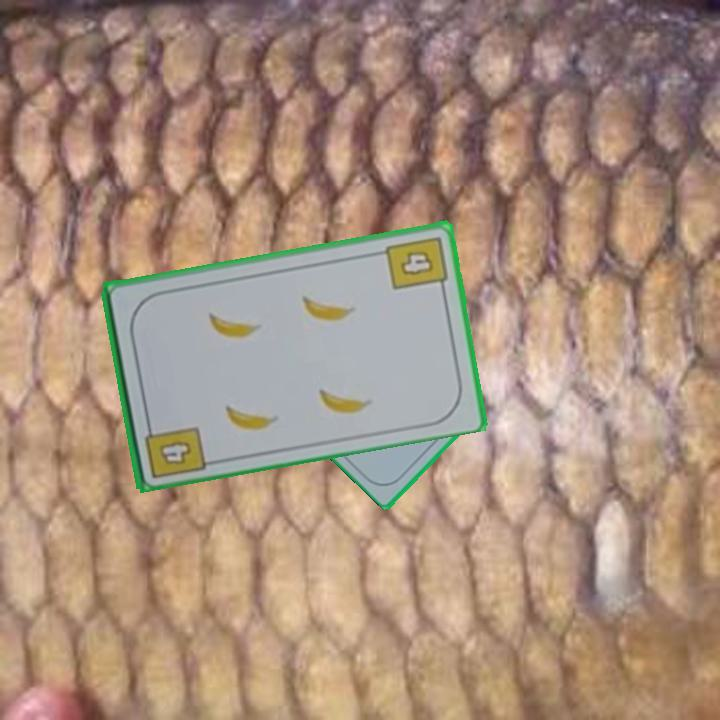4b: (140, 416, 208, 481), (382, 232, 450, 295)
